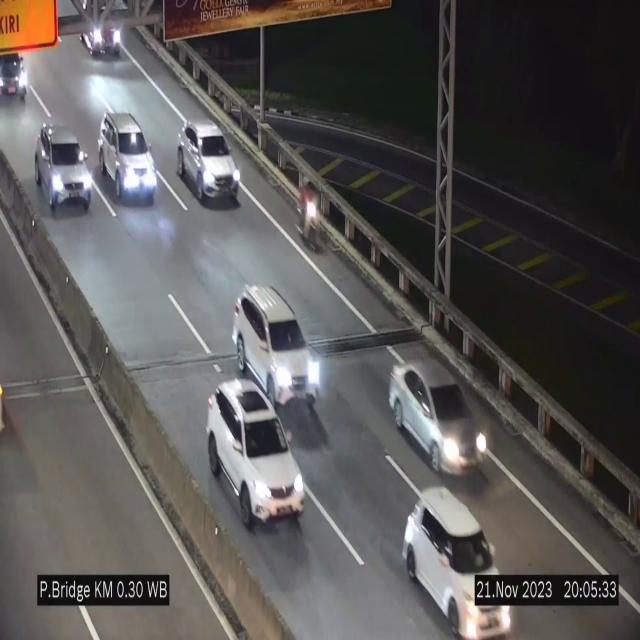Car: (404, 489, 511, 638), (207, 381, 305, 527), (391, 358, 491, 478), (232, 287, 310, 406), (177, 120, 241, 204), (99, 114, 158, 204), (35, 122, 93, 212), (75, 6, 124, 62), (0, 42, 38, 103)
Motorcycle: (298, 172, 322, 266)
